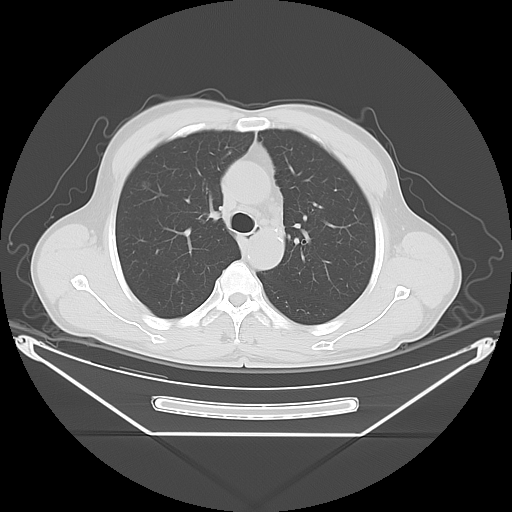nodule: (140, 180, 151, 191)
